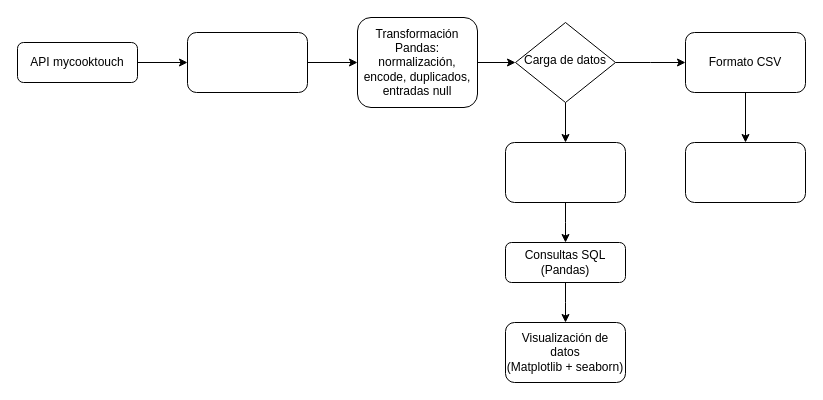
The diagram is 823 pixels wide and 400 high, and some of its shapes have lost their labels. The centre of each missing label's shape, as x and y in pixels:
Carga en MySQL (Categorías y Recetas): pixel 565 172
Cloud Platform (Backup o Análisis): pixel 745 172
Extracción Requests -> JSON (local): pixel 247 62
